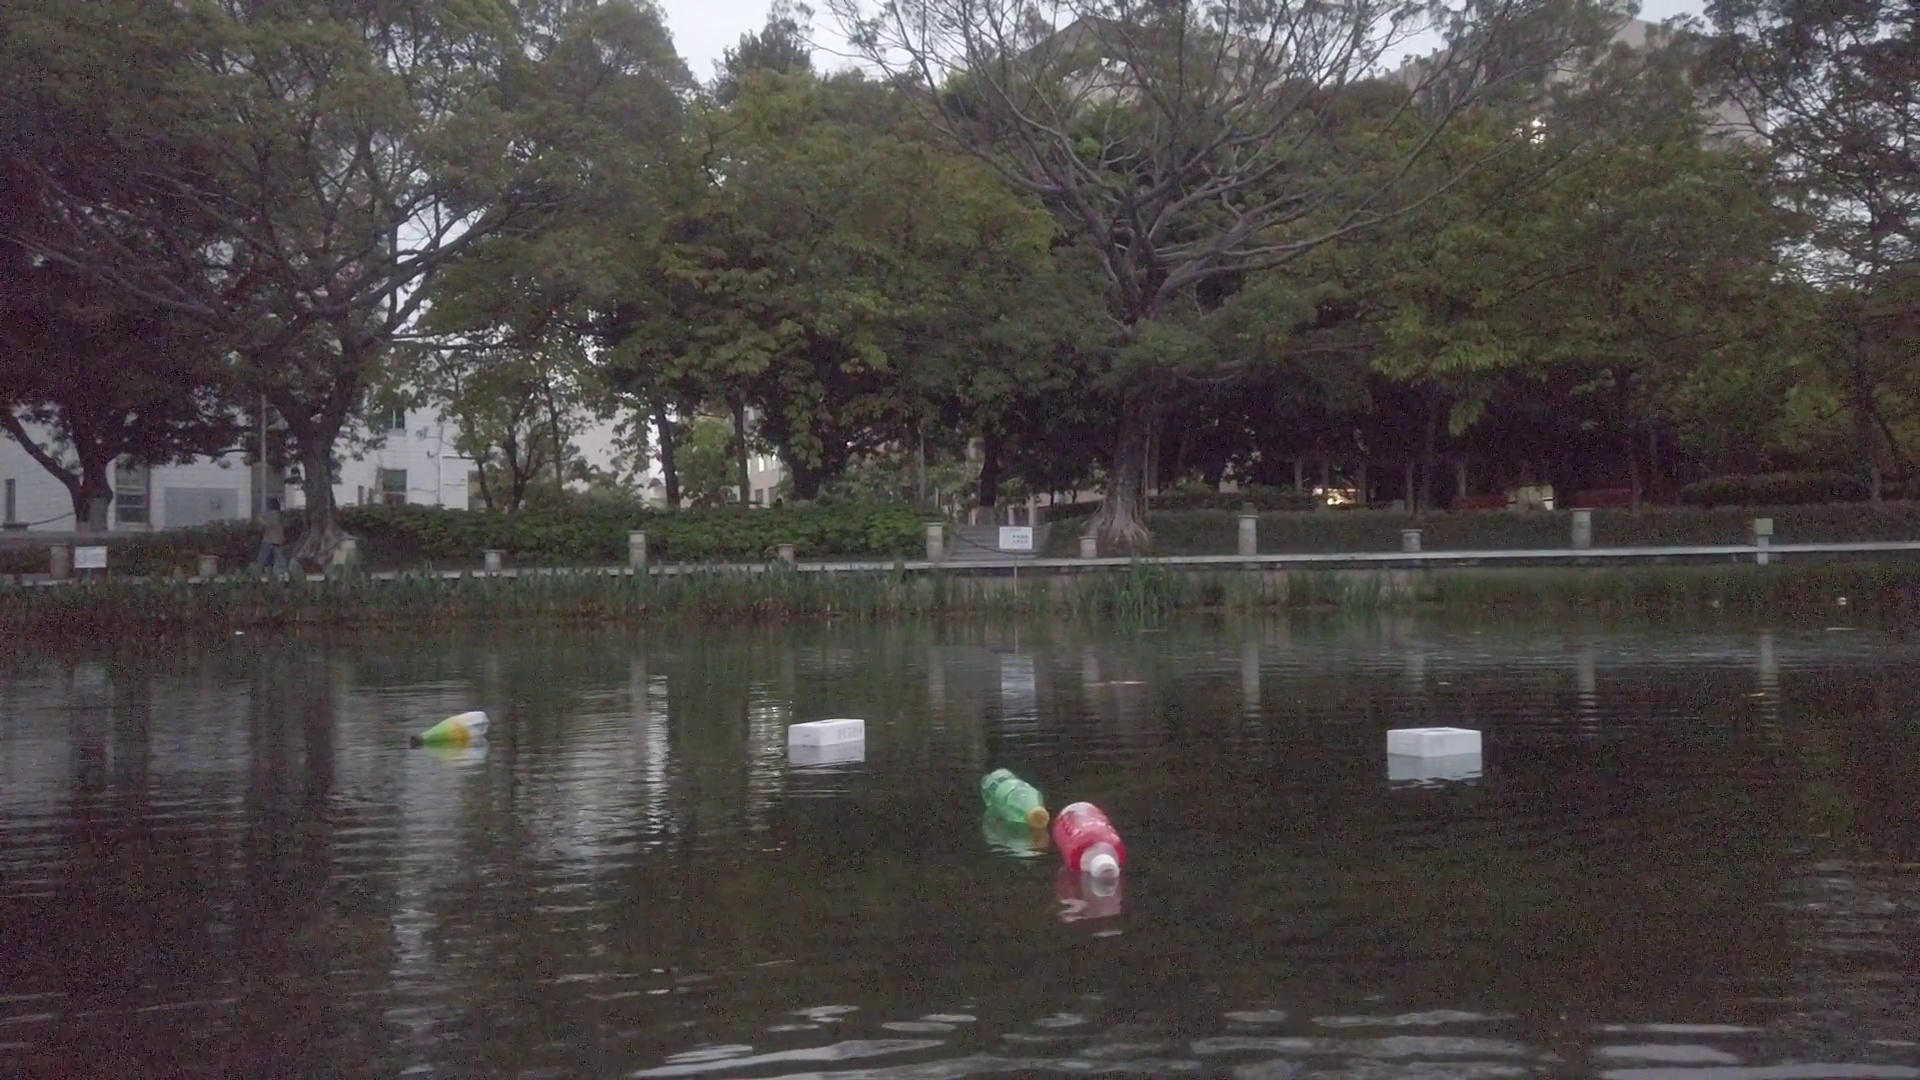bottle: (1051, 800, 1125, 887), (982, 764, 1055, 833), (405, 711, 493, 748)
carton: (1385, 727, 1484, 760), (790, 717, 865, 746)
